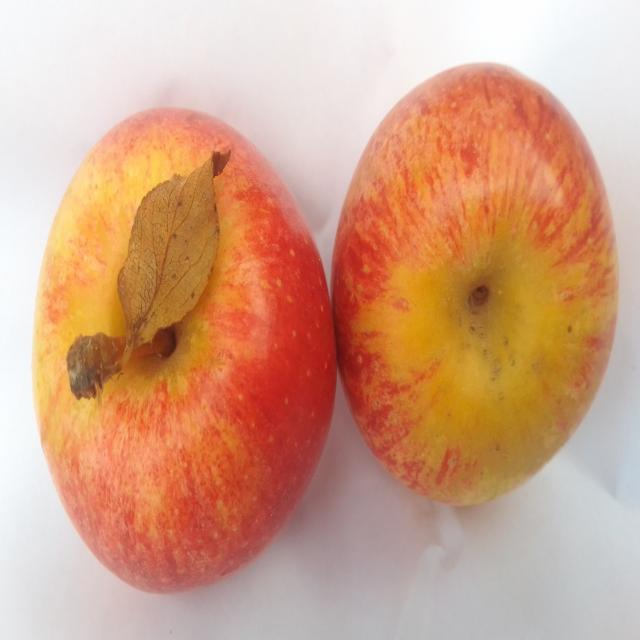Fresh Apple: (32, 101, 333, 596), (327, 62, 620, 508)
